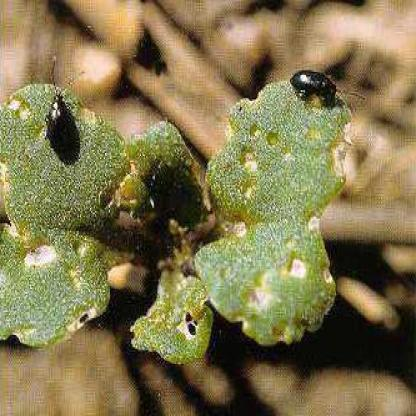beetle: (40, 69, 89, 166), (291, 62, 342, 114)
